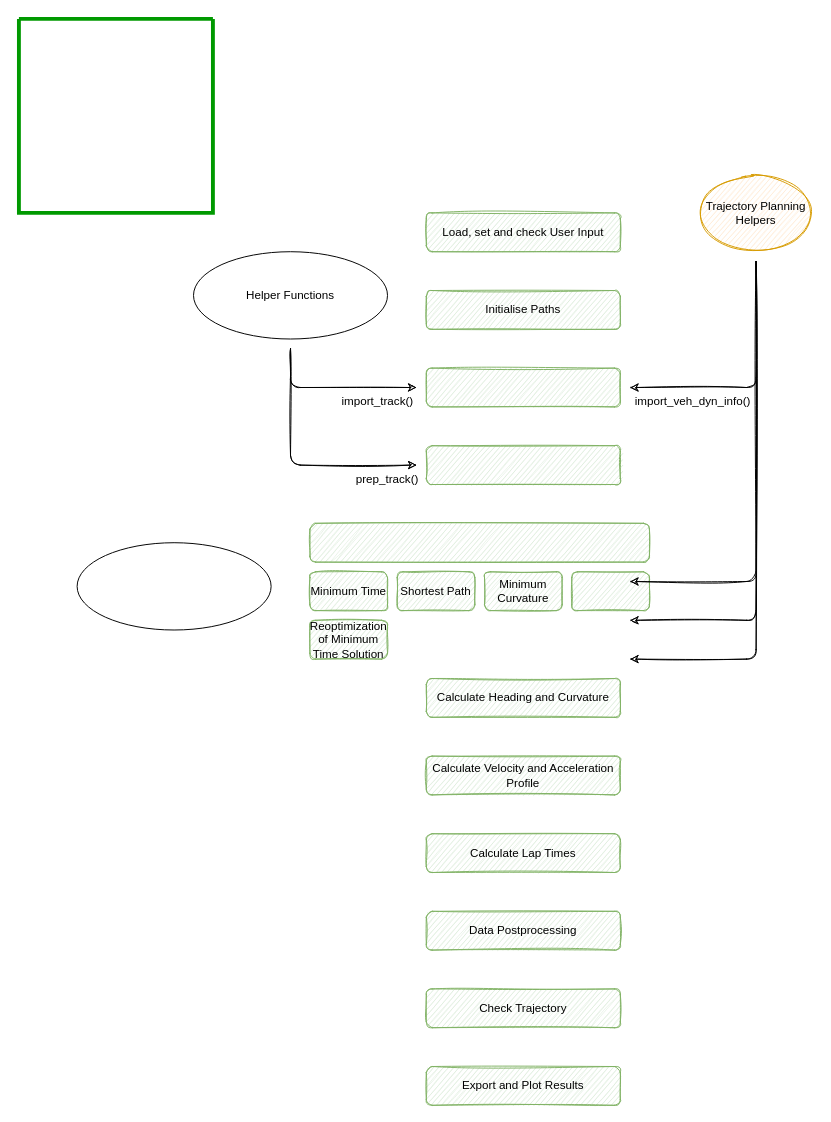
This 831x1122 diagram has some shape labels left out. Here are the shapes that lost their labels. From the top down, the box of each, then its label:
(425, 367, 620, 407): Import Vehicle Parameters, Track and Vehicle Dynamics Information
(425, 445, 620, 485): Prepare Reference Track
(309, 522, 649, 562): Call Optimization
(76, 542, 271, 630): Time-Optimal Trajectory
(571, 571, 649, 611): Minimum Curvature IQP
